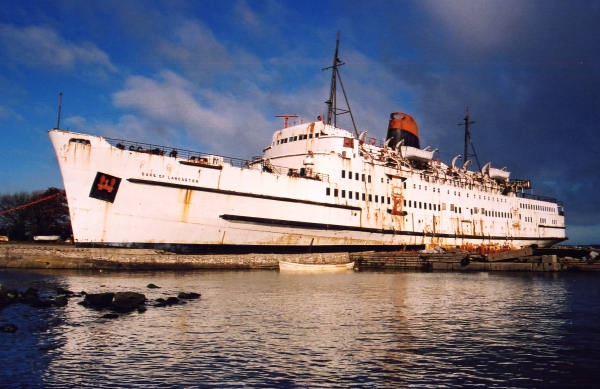rust: (457, 220, 513, 252), (389, 187, 405, 221), (180, 190, 194, 220)
